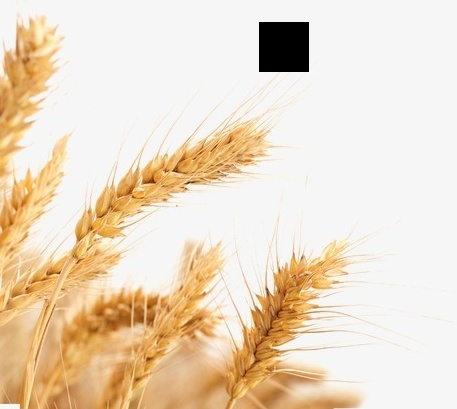wheat: (64, 108, 277, 269), (226, 238, 348, 409)
